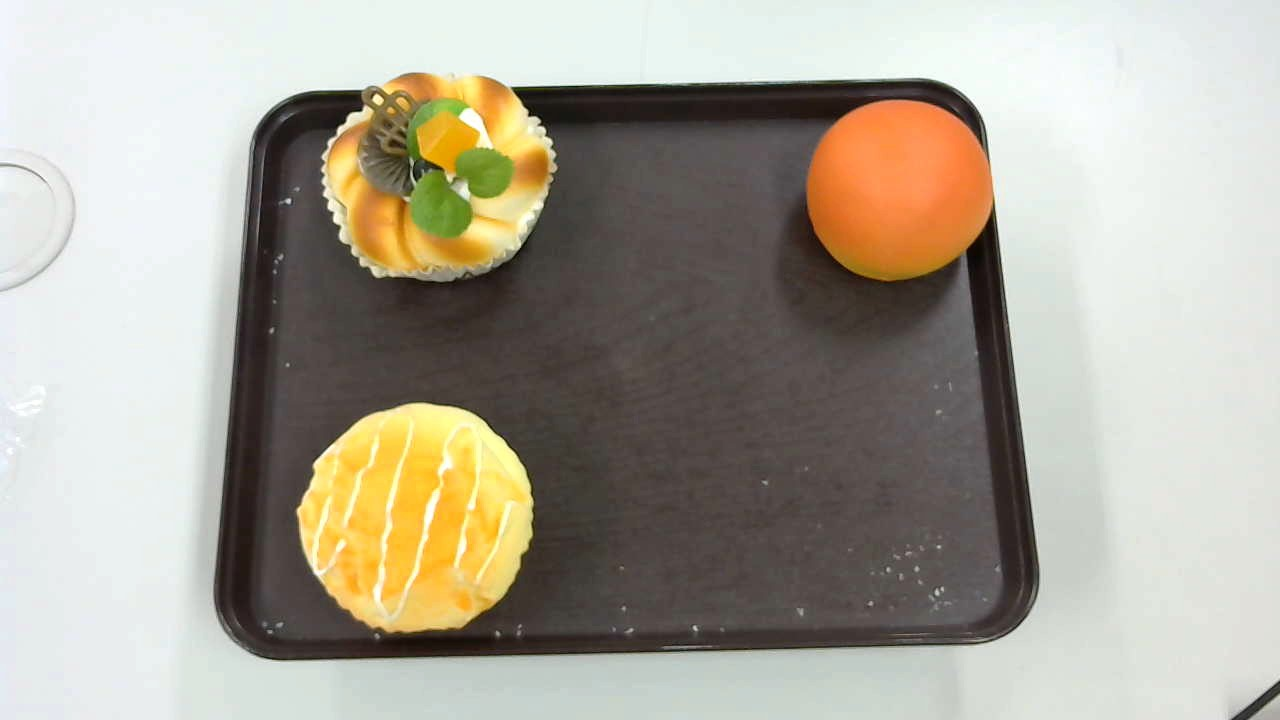bun: (807, 99, 993, 280)
cupcake: (296, 402, 534, 633)
fruit tart: (320, 72, 556, 282)
